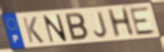B: (64, 12, 90, 42)
E: (128, 6, 158, 37)
H: (105, 7, 137, 39)
J: (93, 10, 109, 38)
K: (21, 16, 45, 44)
N: (42, 13, 69, 44)
